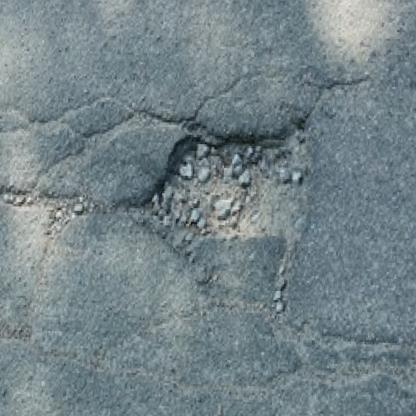pothole: (141, 126, 294, 234)
